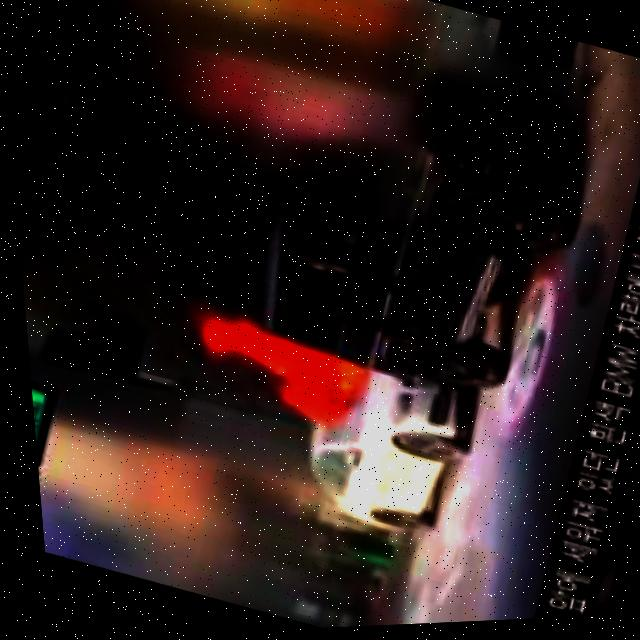Fire: (279, 345, 373, 424)
